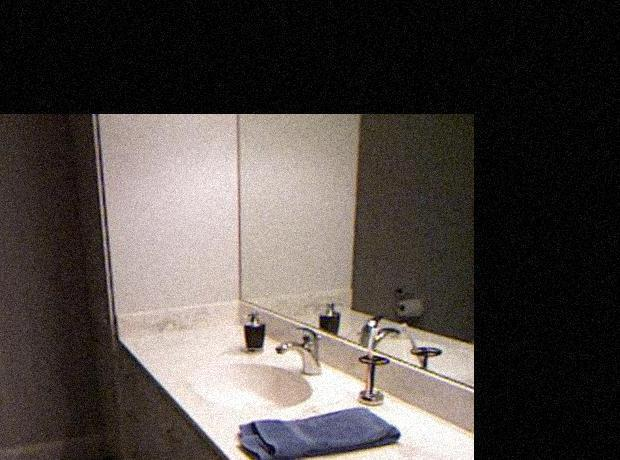Lavamanos: (185, 325, 330, 414)
